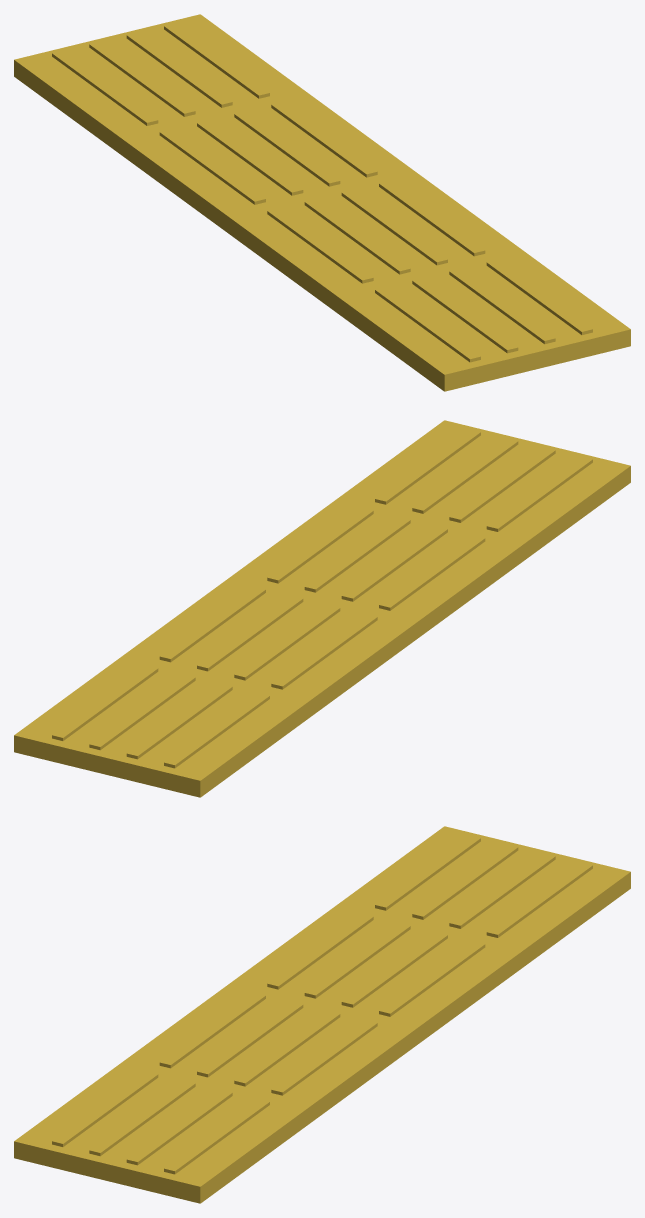
File: tactile-guidance-v1.glb
The picture shows the model from 3 angles, top to bottom: view 1: azimuth 30°, elevation 25°; view 2: azimuth 150°, elevation 25°; view 3: azimuth 330°, elevation 25°; orthographic projection.
Parts seen in each view (by area): view 1: 선형 점자블록 · 보행 연결; view 2: 선형 점자블록 · 보행 연결; view 3: 선형 점자블록 · 보행 연결.
Part boxes in pixels (x1=…): 선형 점자블록 · 보행 연결: x1=14, y1=14, x2=630, y2=391; 선형 점자블록 · 보행 연결: x1=14, y1=420, x2=630, y2=797; 선형 점자블록 · 보행 연결: x1=14, y1=826, x2=630, y2=1203.
Size of the model in its own units: 0.3 by 0.031 by 1.2.
